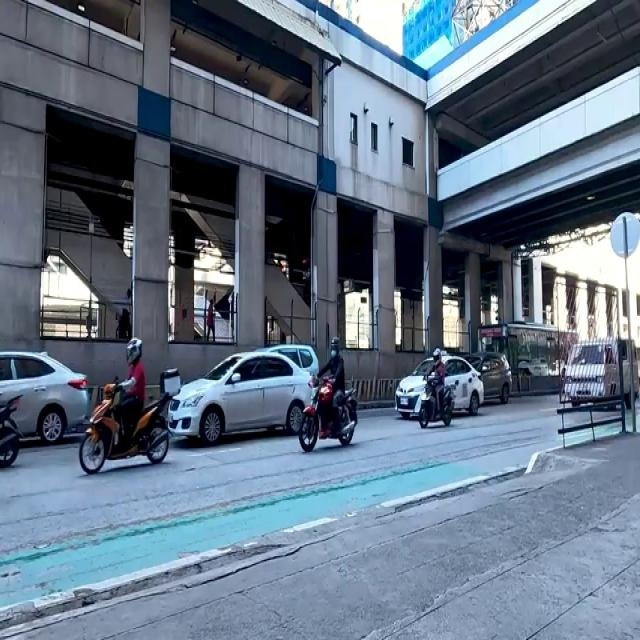bus: (479, 322, 577, 393)
car: (171, 346, 312, 444), (0, 353, 81, 447), (558, 340, 637, 404), (394, 360, 481, 413)
motorcycle: (88, 333, 160, 478), (299, 330, 366, 463), (417, 351, 457, 437)
